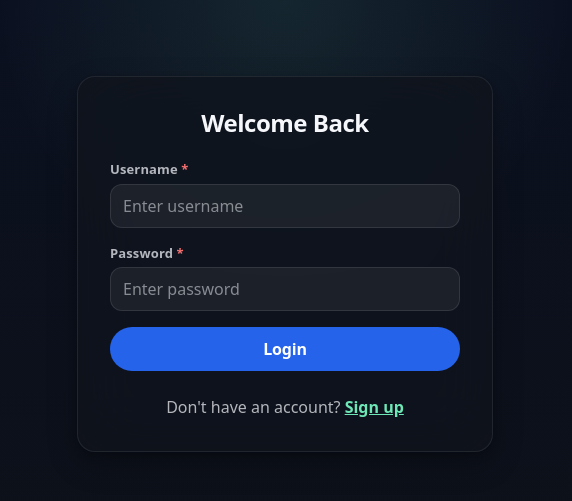
Test: Login Component › does not navigate and shows an error when session verification fails after login
The image size is (572, 501).
Step 1. Type "testuser" into the field labelled "Username *" → (285, 206), box [123,186,447,226]
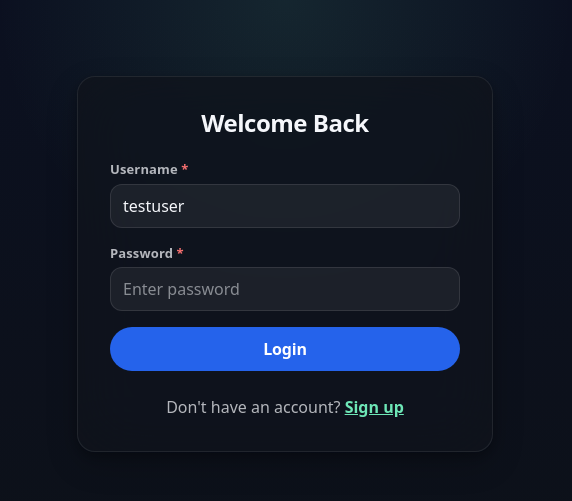
Step 2. Type "correctpassword" into the password field labelled "Password *" → (285, 289), box [123,269,447,309]
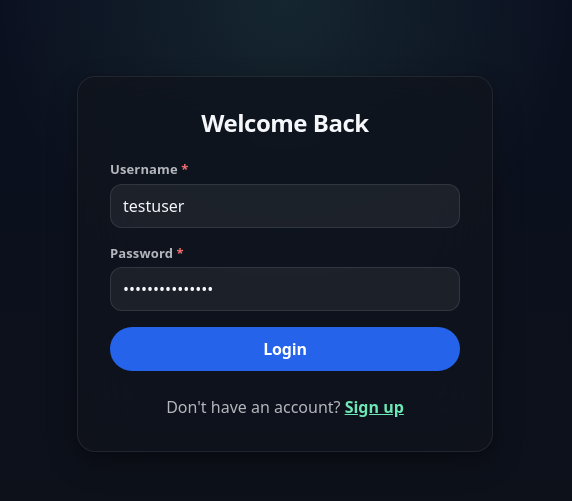
Step 3. Click the button "Login" → (285, 349), box [110,327,460,371]
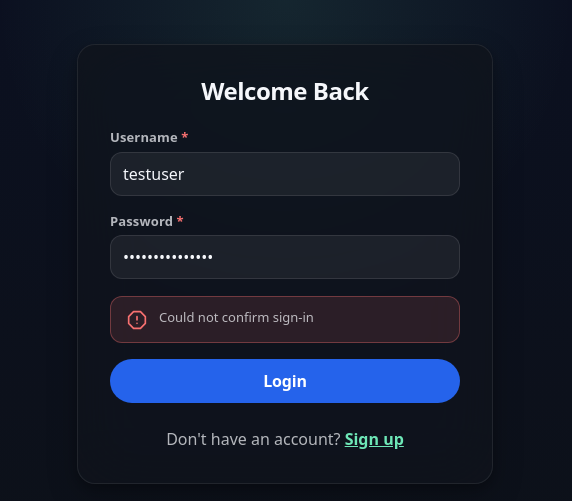
Now the message reads "Could not confirm sign-in", box [159,308,314,326]
